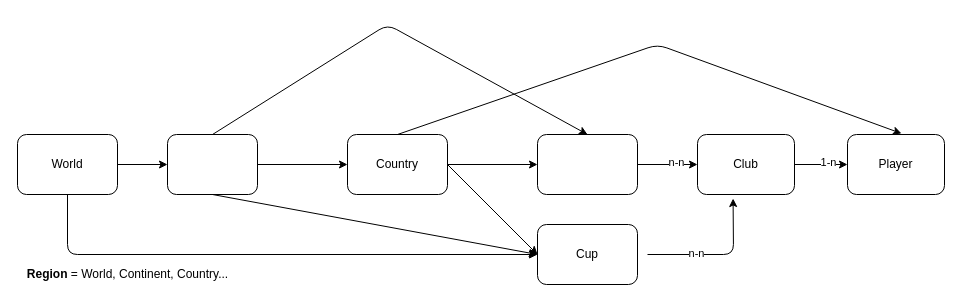
Image size: 962x302. Some labels were removed from this diagram. The shapes that lost their labels are listed below. From the top down, each one's box as (x1, y1, x2, y2) in pixels, then its label:
(166, 134, 258, 194): Continent
(536, 134, 638, 194): League
